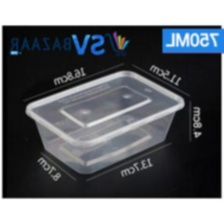plastic_box: (19, 65, 189, 178)
